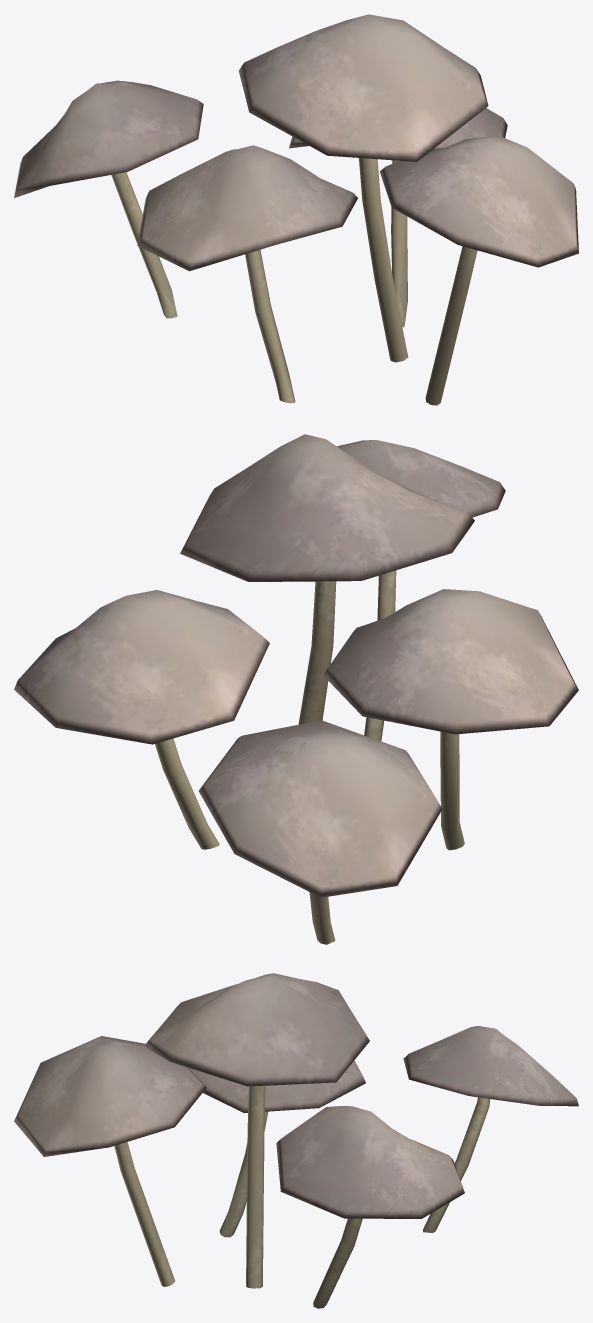
File: mushroom_common.glb
3 views of the same model, one above another, from view 1: azimuth 30°, elevation 25°; view 2: azimuth 150°, elevation 25°; view 3: azimuth 270°, elevation 25° (orthographic). The views are drawn at different scales.
Parts seen in each view (by area): view 1: Mushroom_Common; view 2: Mushroom_Common; view 3: Mushroom_Common.
Part boxes in pixels (bbox=[...]): Mushroom_Common: bbox=[14, 14, 578, 405]; Mushroom_Common: bbox=[14, 434, 578, 944]; Mushroom_Common: bbox=[14, 973, 578, 1308].
Bounding box in the file's own units: 0.5637 × 0.4635 × 0.7791.
Materials: 1 (1 with a texture image).
